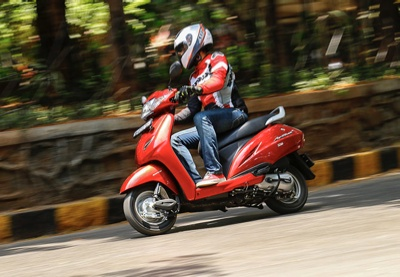helmet: (174, 23, 215, 69)
